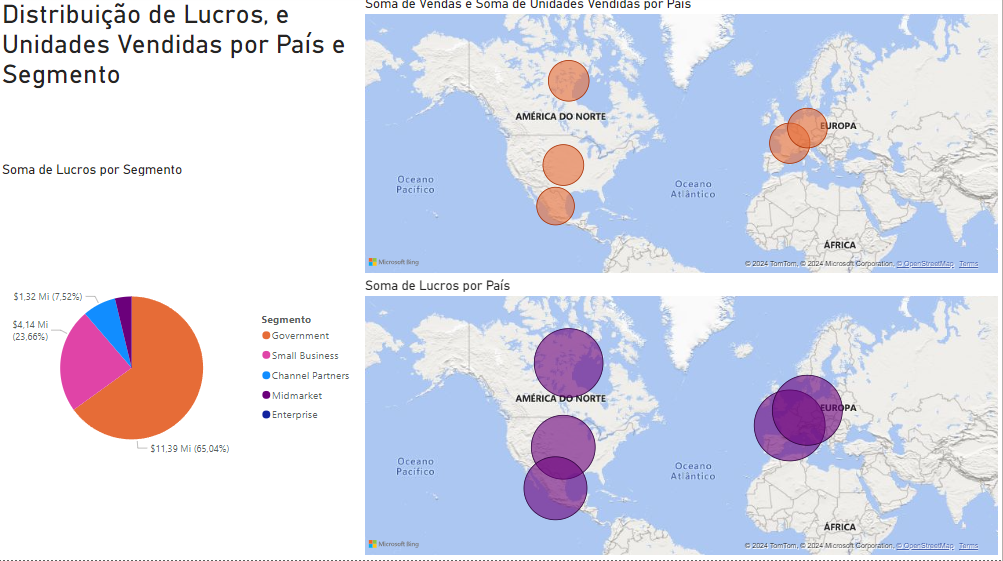

The page's visual inventory and layout, read from the dashboard file:
{"tool":"powerbi","page":{"name":"Página 3","canvas":[1280,720],"ordinal":2},"visuals":[{"type":"pieChart","fields":{"Category":["financials.Segmento"],"Y":["Sum(financials.Lucros)"]},"box":[0,211.6,462.8,508.7],"z":0},{"type":"map","fields":{"Category":["financials.País"],"Size":["Sum(financials.Vendas)"]},"box":[462.8,0,817.2,359.5],"z":1000},{"type":"map","fields":{"Category":["financials.País"],"Size":["Sum(financials.Lucros)"]},"box":[463,360,817,360],"z":2000},{"type":"textbox","box":[0,0,463,212],"z":2001}]}

Visuals, with their boxes in screenshot pixels (x1, y1, x2, y2), scaled from the page's 1280x720 canvas onto the 1003x561 screenshot:
pieChart - financials.Segmento x Sum(financials.Lucros): <region>0, 165, 363, 560</region>
map - financials.País x Sum(financials.Vendas): <region>363, 0, 1002, 280</region>
map - financials.País x Sum(financials.Lucros): <region>363, 280, 1002, 560</region>
textbox: <region>0, 0, 363, 165</region>
